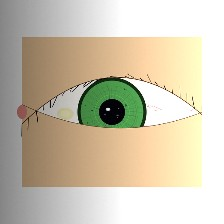pinguecula_lesion: (48, 100, 82, 127)
